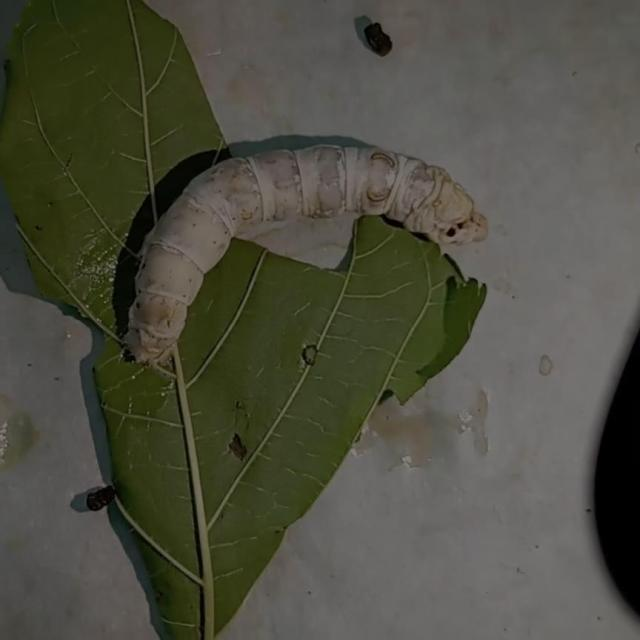Grasserie: (116, 130, 494, 372)
